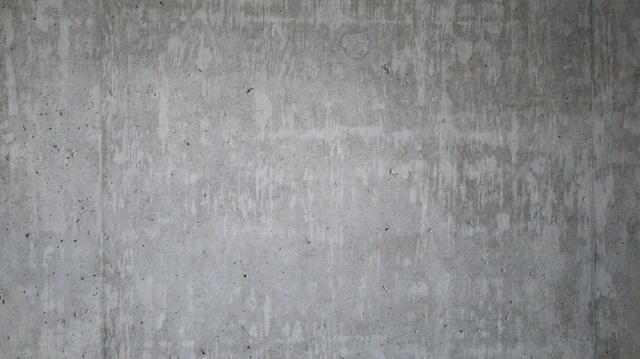wall: (8, 6, 640, 352)
